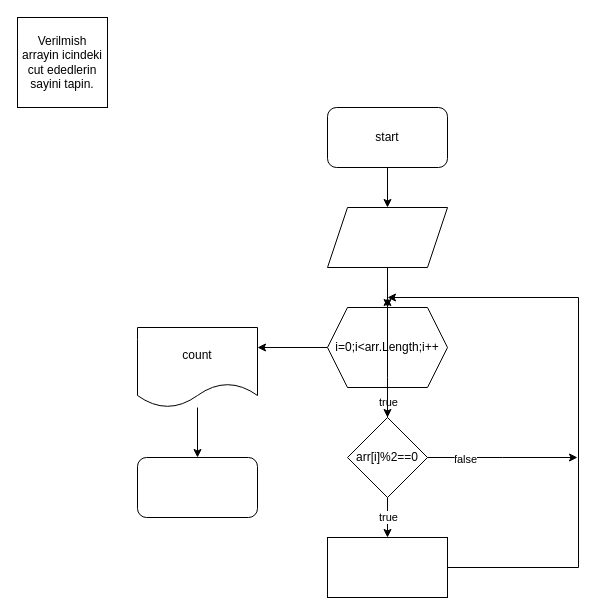
This 604x615 diagram has some shape labels left out. Each missing label, with the centre of its shape:
arr[ ] count=0: point (387, 237)
count++: point (387, 567)
end: point (197, 487)
